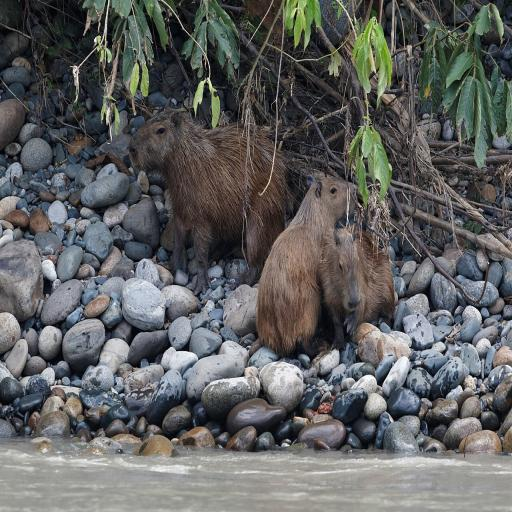capybara: (129, 110, 287, 294), (257, 178, 353, 355), (320, 227, 396, 347)
